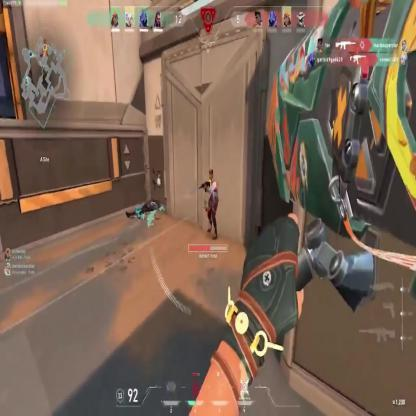enemy: (206, 167, 220, 240)
enemy_head: (208, 168, 214, 182)
